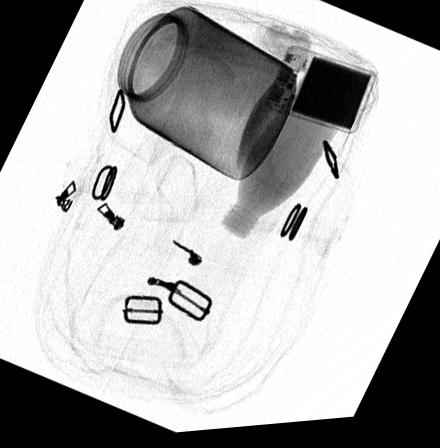Powerbank: (264, 47, 379, 140)
